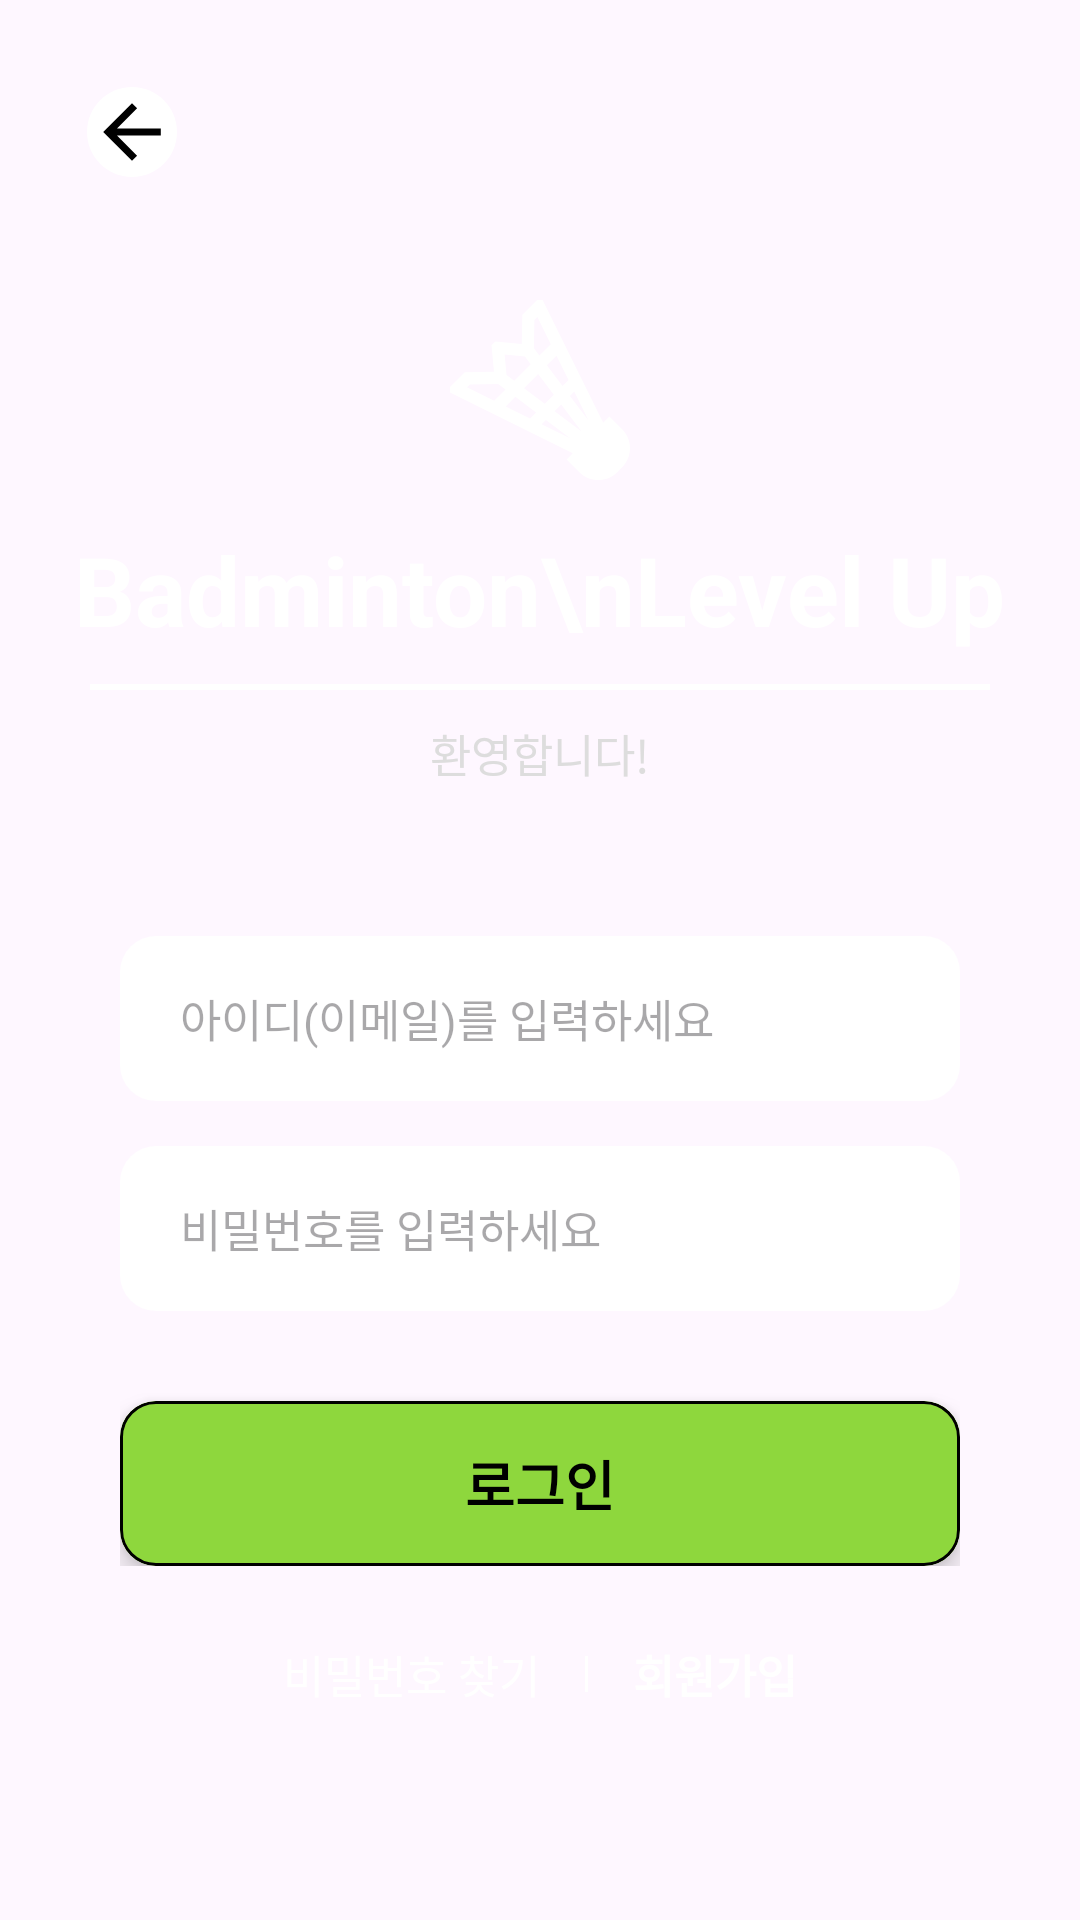

Point at icon controls on the screen. Image size 1080 x 1920, points as [x,y].
뒤로가기: [132,132]
